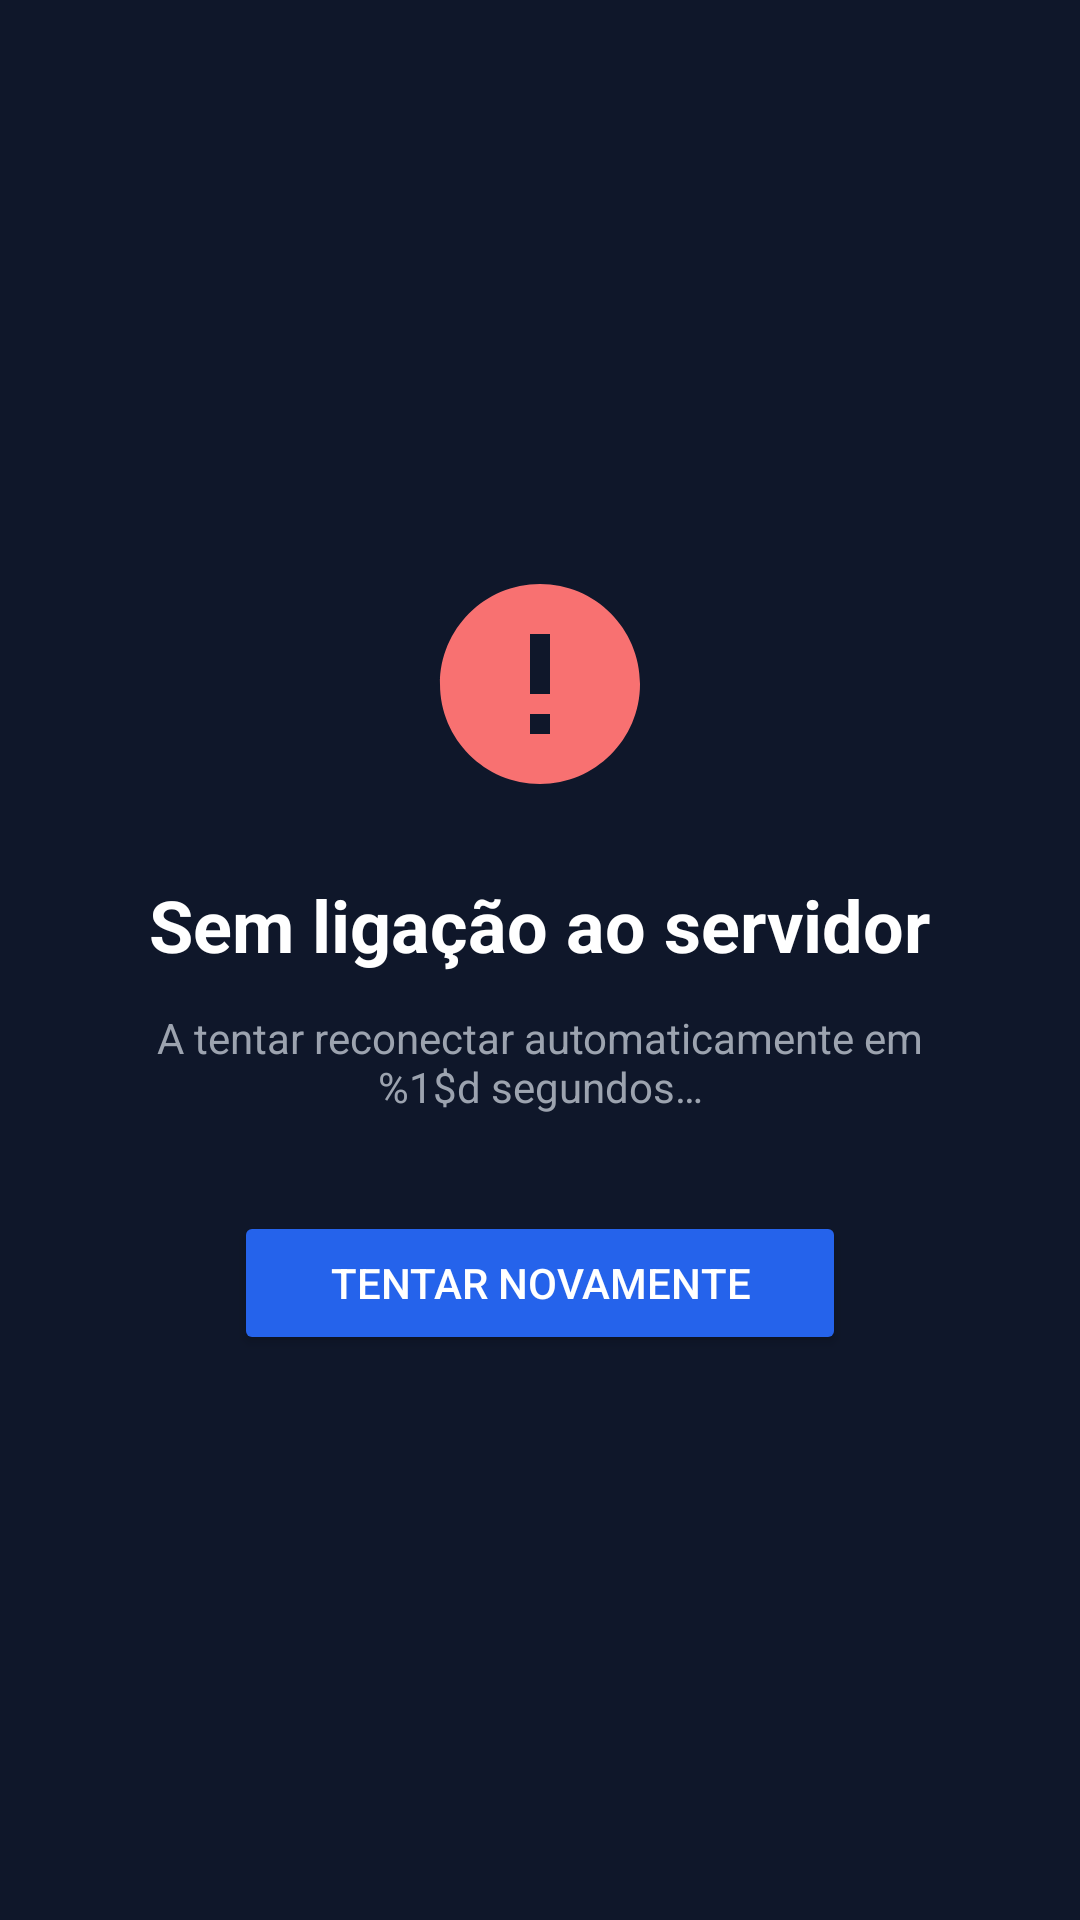

Icons on this 1080×1920 Android screen, each with the point to tap as [x,y]:
Erro de Ligação: [539,684]
